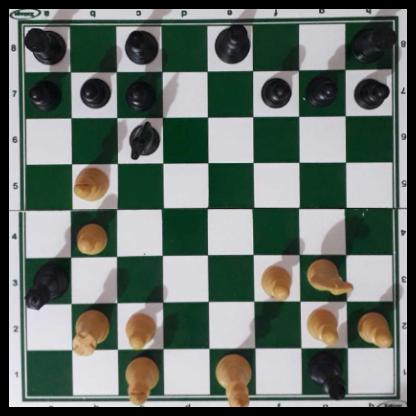black-bishop: (307, 351, 346, 402), (121, 30, 160, 65)
black-king: (212, 22, 252, 64)
black-knight: (127, 119, 161, 160)
black-pawn: (352, 75, 388, 109), (306, 74, 338, 106), (28, 78, 61, 108), (261, 74, 291, 107), (79, 76, 108, 108), (125, 77, 154, 109)
black-queen: (25, 262, 69, 312)
black-rook: (20, 23, 66, 64), (352, 21, 397, 62)
white-bishop: (126, 353, 159, 405), (72, 166, 110, 203)
white-king: (215, 352, 252, 407)
white-knight: (305, 258, 353, 295)
white-pawn: (356, 310, 394, 348), (304, 306, 339, 346), (124, 310, 156, 349), (74, 222, 108, 256), (260, 264, 291, 300)
white-rook: (69, 306, 110, 356)
